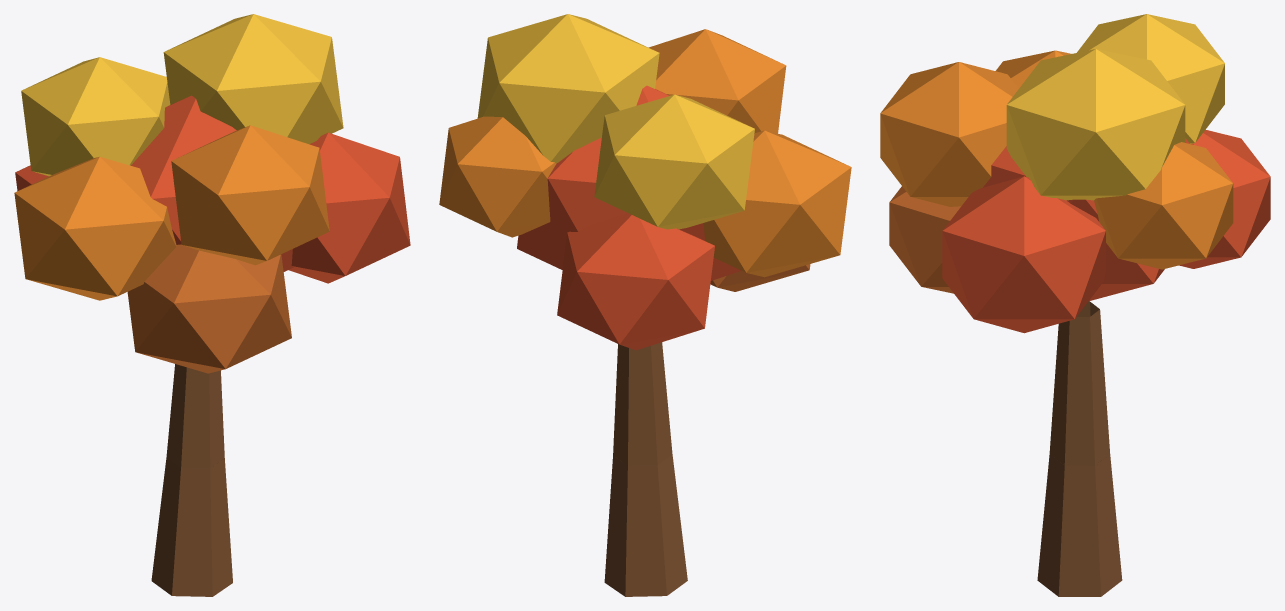
The model's file is tree-autumn-lo.glb.
3 renders of one model, left to right at view 1: azimuth 30°, elevation 25°; view 2: azimuth 150°, elevation 25°; view 3: azimuth 270°, elevation 25°, orthographic. The views are drawn at different scales.
Parts seen in each view (by area): view 1: AutumnLo_Crown, AutumnLo_Trunk; view 2: AutumnLo_Crown, AutumnLo_Trunk; view 3: AutumnLo_Crown, AutumnLo_Trunk.
Part boxes in pixels (box(x1,y1,x2,y2)): AutumnLo_Crown: box(14, 14, 410, 373); AutumnLo_Trunk: box(151, 364, 232, 596); AutumnLo_Crown: box(439, 14, 851, 350); AutumnLo_Trunk: box(604, 342, 687, 596); AutumnLo_Crown: box(880, 14, 1270, 333); AutumnLo_Trunk: box(1037, 301, 1122, 596).
Bounding box in the file's own units: 2.13 × 3.1 × 1.93.
